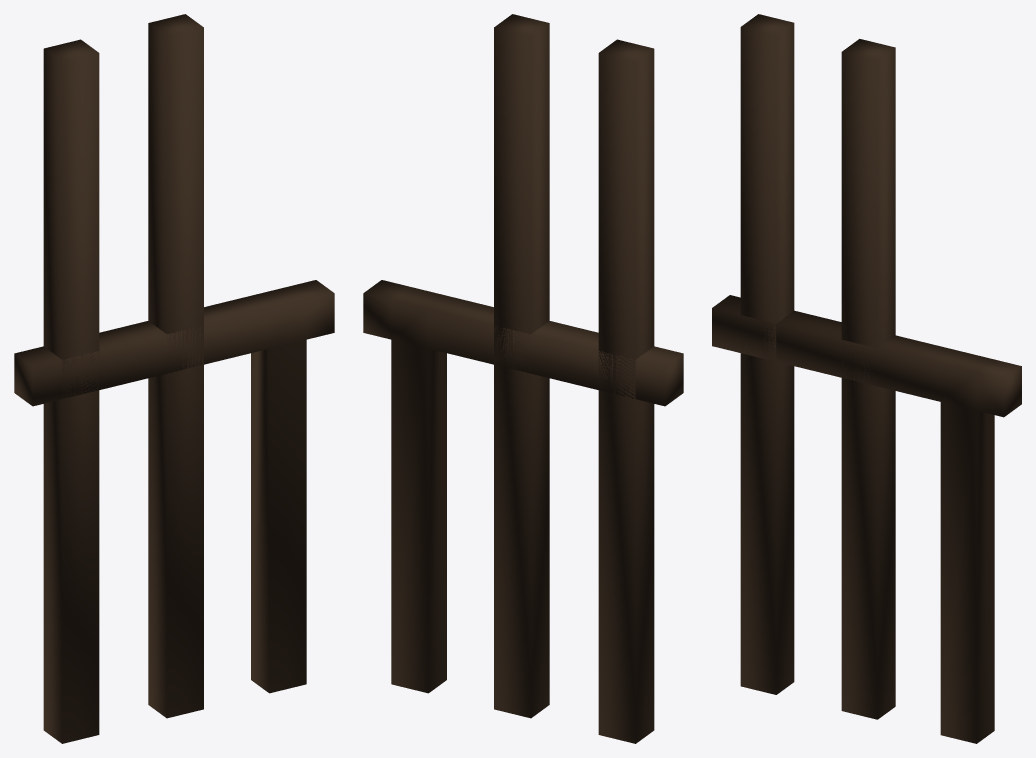
The model's file is railing 1.obj.
The picture shows the model from 3 angles, left to right: view 1: azimuth 30°, elevation 25°; view 2: azimuth 150°, elevation 25°; view 3: azimuth 330°, elevation 25°; orthographic projection. The views are drawn at different scales.
Visible parts, largest first — view 1: railing_1; view 2: railing_1; view 3: railing_1.
Boxes of the visible parts, <box> form: railing_1: <box>14,14,334,743</box>; railing_1: <box>363,14,683,743</box>; railing_1: <box>712,14,1021,743</box>.
Size of the model in its own units: 33.9 by 73.14 by 3.6.
